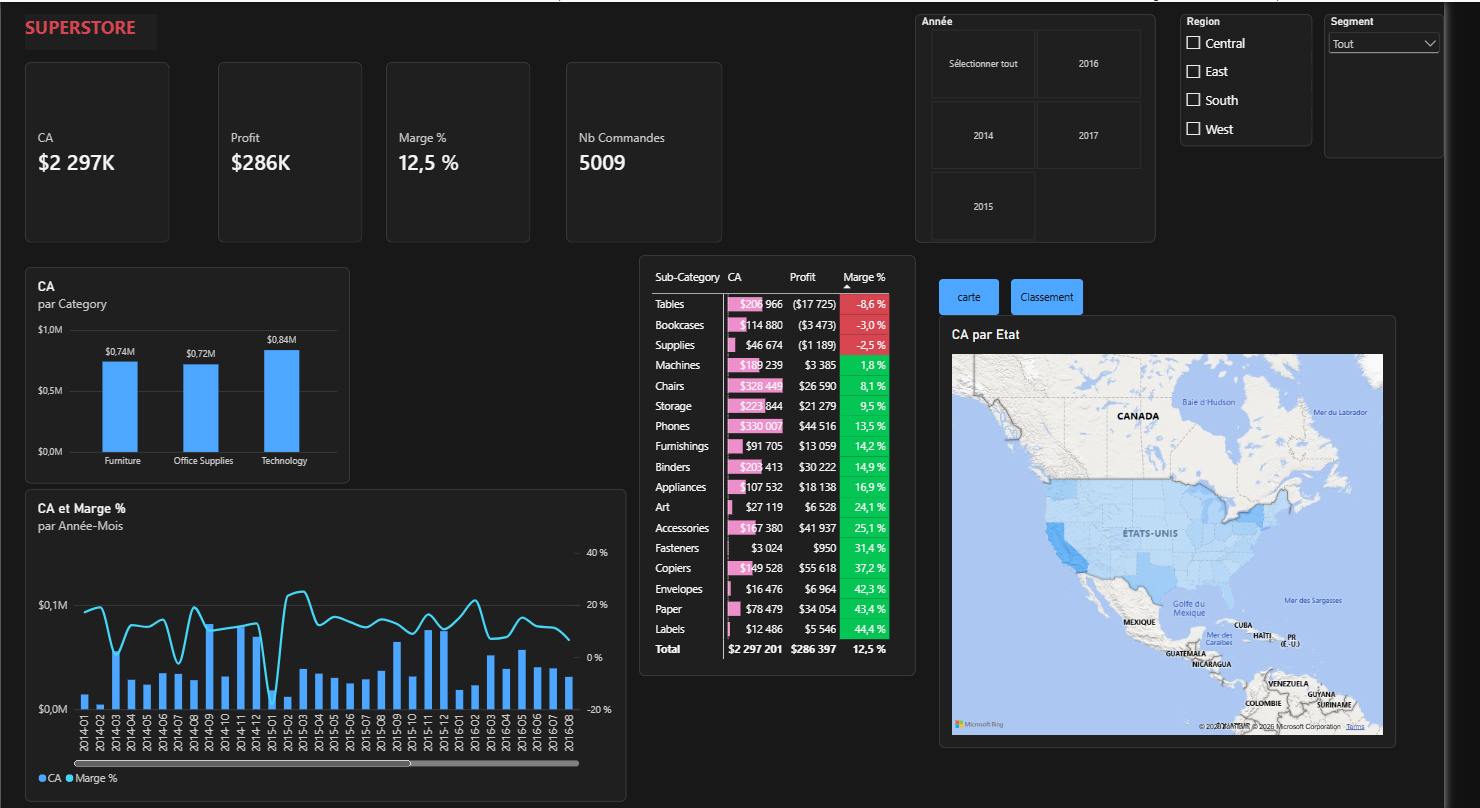

The dashboard page shown, as its layout file describes it:
{"tool":"powerbi","page":{"name":"Vue d'ensemble","canvas":[1920,1080],"ordinal":0},"visuals":[{"type":"cardVisual","title":"KPI CA","fields":{"Data":["Mesures.CA"]},"box":[32,80,192,240],"z":0},{"type":"cardVisual","title":"KPI Profit","fields":{"Data":["Mesures.Profit"]},"box":[288,80,192,240],"z":1000},{"type":"cardVisual","title":"KPI Marge","fields":{"Data":["Mesures.Marge %"]},"box":[512,80,192,240],"z":2000},{"type":"cardVisual","title":"KPI Commandes","fields":{"Data":["Mesures.Nb Commandes"]},"box":[752,80,208,240],"z":3000},{"type":"lineClusteredColumnComboChart","fields":{"Category":["Calendrier.Année-Mois"],"Y":["Mesures.CA"],"Y2":["Mesures.Marge %"]},"box":[32,648,800,416],"z":4000},{"type":"clusteredColumnChart","fields":{"Category":["Dim_produit.Category","Dim_produit.Sub-Category"],"Y":["Mesures.CA"]},"box":[32,352,432,288],"z":5000},{"type":"filledMap","title":"CA par Etat","fields":{"Category":["Dim-Geo.State"]},"box":[1248,416,608,576],"z":6000},{"type":"slicer","fields":{"Values":["Calendrier.Année"]},"box":[1216,16,320,304],"z":7000},{"type":"slicer","fields":{"Values":["Dim-Geo.Region"]},"box":[1568,16,176,176],"z":8000},{"type":"slicer","fields":{"Values":["Dim_Client.Segment"]},"box":[1760,16,160,192],"z":9000},{"type":"pivotTable","fields":{"Rows":["Dim_produit.Sub-Category"],"Values":["Mesures.CA","Mesures.Profit","Mesures.Marge %"]},"box":[848,336,368,560],"z":10000},{"type":"textbox","box":[32,16,176,48],"z":11000},{"type":"actionButton","box":[1248,368,80,48],"z":13000},{"type":"actionButton","box":[1344,368,96,48],"z":14000}]}

Visuals, with their boxes on the page's 1920x1080 design canvas (x1, y1, x2, y2). These are canvas units, not pixel positions in the 1480x808 screenshot, which may show the page scaled, cropped or inside an application window:
"KPI CA" cardVisual: (32, 80, 224, 320)
"KPI Profit" cardVisual: (288, 80, 480, 320)
"KPI Marge" cardVisual: (512, 80, 704, 320)
"KPI Commandes" cardVisual: (752, 80, 960, 320)
lineClusteredColumnComboChart - Calendrier.Année-Mois x Mesures.CA: (32, 648, 832, 1064)
clusteredColumnChart - Dim_produit.Category x Dim_produit.Sub-Category: (32, 352, 464, 640)
"CA par Etat" filledMap: (1248, 416, 1856, 992)
slicer - Calendrier.Année: (1216, 16, 1536, 320)
slicer - Dim-Geo.Region: (1568, 16, 1744, 192)
slicer - Dim_Client.Segment: (1760, 16, 1920, 208)
pivotTable - Dim_produit.Sub-Category x Mesures.CA: (848, 336, 1216, 896)
textbox: (32, 16, 208, 64)
actionButton: (1248, 368, 1328, 416)
actionButton: (1344, 368, 1440, 416)
